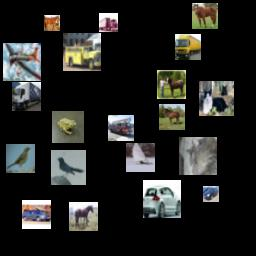airplane: (3, 43, 41, 81)
automobile: (143, 180, 181, 218), (22, 200, 51, 229), (203, 186, 219, 202)
bird: (51, 150, 86, 185), (6, 144, 35, 173)
cat: (179, 137, 217, 175), (199, 81, 234, 116)
frog: (52, 111, 84, 143)
ship: (126, 143, 155, 172)
truck: (63, 33, 101, 71), (12, 82, 41, 111), (108, 115, 134, 141), (175, 34, 201, 60), (99, 13, 118, 32)
